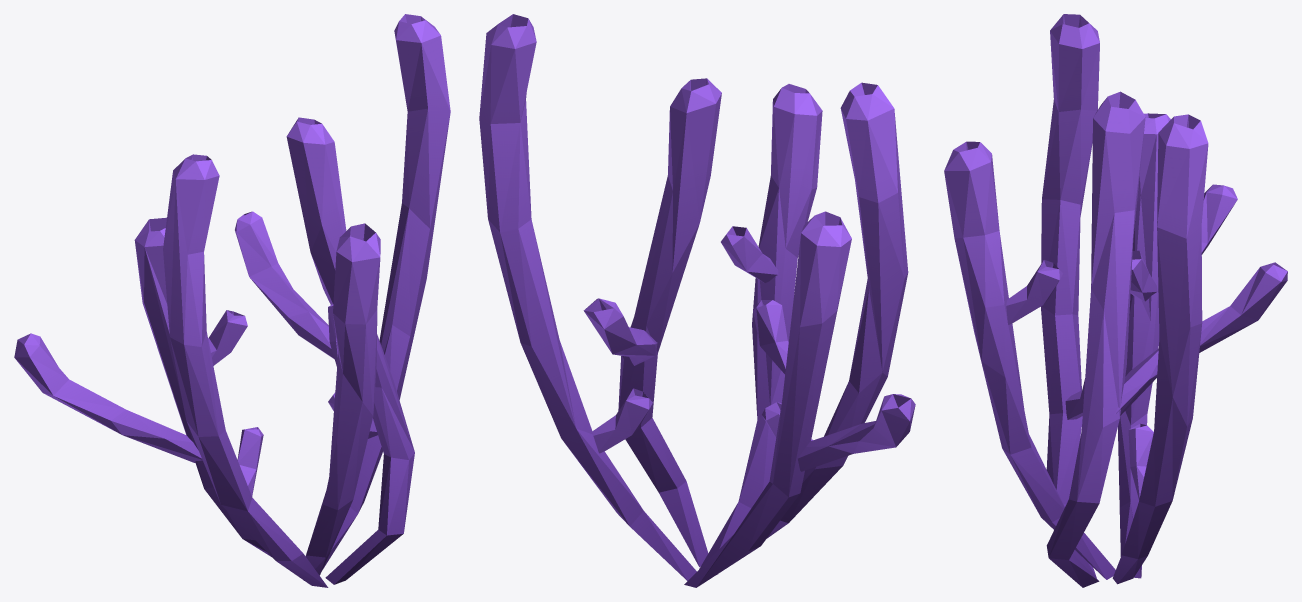
The model's file is SM_Spongia_14.fbx.
The picture shows the model from 3 angles, left to right: view 1: azimuth 30°, elevation 25°; view 2: azimuth 150°, elevation 25°; view 3: azimuth 270°, elevation 25°; orthographic projection. The views are drawn at different scales.
Parts seen in each view (by area): view 1: Spongia_14; view 2: Spongia_14; view 3: Spongia_14.
Boxes of the visible parts, x1,y1,x2,y2 form: Spongia_14: (14, 14, 450, 587); Spongia_14: (479, 14, 915, 587); Spongia_14: (944, 14, 1287, 587).
Bounding box in the file's own units: 108 × 125 × 73.79.
